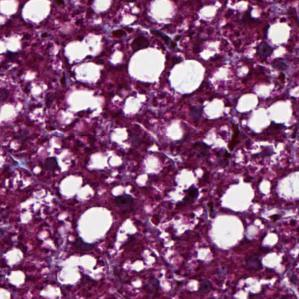steatosis: (205, 209, 245, 251), (74, 202, 113, 245), (125, 46, 165, 85), (171, 55, 208, 96)
